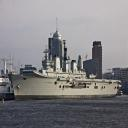Portanaves: (7, 42, 123, 103)
